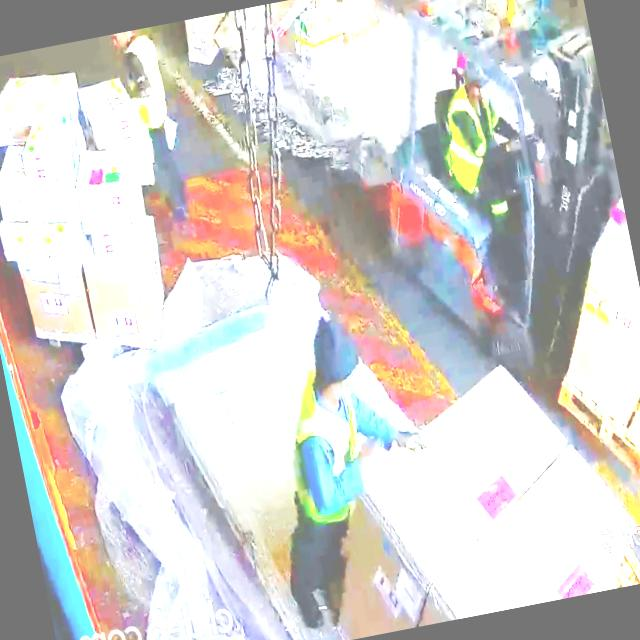Box: (322, 352, 568, 588), (443, 448, 637, 617), (80, 246, 174, 344), (22, 260, 96, 350), (0, 68, 82, 138), (70, 147, 138, 215), (84, 71, 144, 146), (292, 2, 351, 72), (1, 220, 76, 266), (0, 182, 69, 230), (24, 120, 78, 174)
